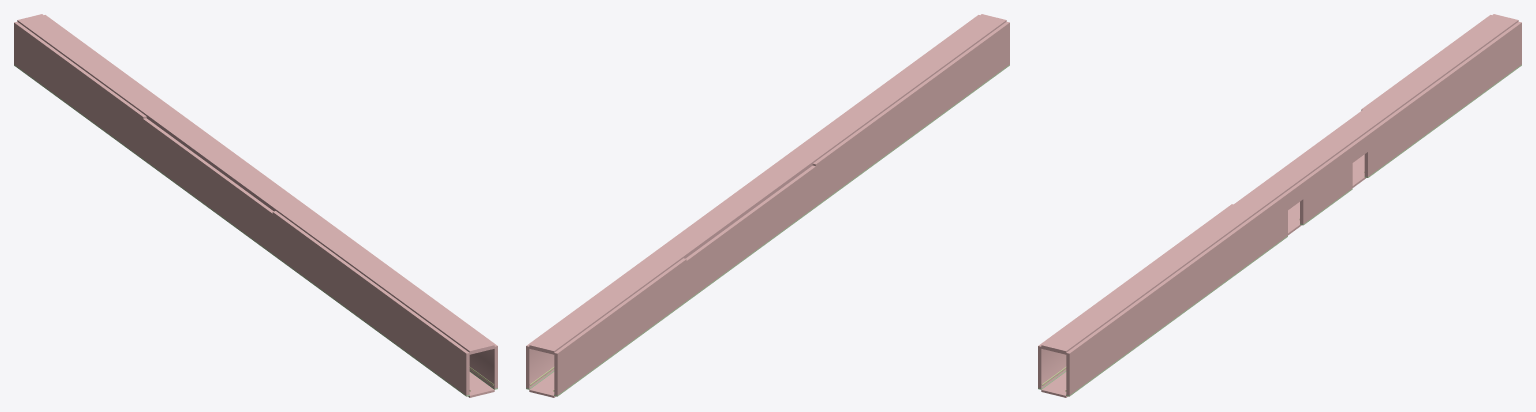
The model's file is corridor.fbx.
3 renders of one model, left to right at view 1: azimuth 30°, elevation 25°; view 2: azimuth 150°, elevation 25°; view 3: azimuth 330°, elevation 25°, orthographic.
Parts seen in each view (by area): view 1: Cylinder.055, Cylinder.066, Cylinder.009, Cylinder.015, Cylinder.006, Cylinder.014, Cylinder.017, ceiling.004, ceiling.001, ceiling.006, ceiling.003, ceiling.002 (+2 smaller); view 2: Cylinder.006, Cylinder.015, Cylinder.009, Cylinder.066, Cylinder.055, Cylinder.014, Cylinder.017, ceiling.001, ceiling.004, ceiling.002, ceiling.019, ceiling.003 (+2 smaller); view 3: Cylinder.055, Cylinder.066, Cylinder.009, Cylinder.015, Cylinder.006, Cylinder.034, Cylinder.016, ceiling.006, ceiling.001, ceiling.003, ceiling.004, ceiling.002 (+2 smaller).
Part boxes in pixels (x1=…): Cylinder.055: x1=402, y1=298, x2=497, y2=396; Cylinder.066: x1=78, y1=62, x2=174, y2=159; Cylinder.009: x1=272, y1=204, x2=368, y2=301; Cylinder.015: x1=337, y1=251, x2=432, y2=349; Cylinder.006: x1=14, y1=15, x2=109, y2=112; Cylinder.014: x1=143, y1=118, x2=210, y2=207; Cylinder.017: x1=208, y1=165, x2=273, y2=254; ceiling.004: x1=146, y1=108, x2=235, y2=164; ceiling.001: x1=211, y1=156, x2=300, y2=211; ceiling.006: x1=405, y1=298, x2=494, y2=354; ceiling.003: x1=276, y1=203, x2=364, y2=257; ceiling.002: x1=17, y1=14, x2=106, y2=68; Cylinder.006: x1=526, y1=298, x2=621, y2=396; Cylinder.015: x1=849, y1=62, x2=945, y2=159; Cylinder.009: x1=785, y1=109, x2=880, y2=207; Cylinder.066: x1=591, y1=251, x2=686, y2=349; Cylinder.055: x1=914, y1=15, x2=1009, y2=112; Cylinder.014: x1=686, y1=213, x2=751, y2=301; Cylinder.017: x1=748, y1=165, x2=815, y2=254; ceiling.001: x1=723, y1=156, x2=812, y2=212; ceiling.004: x1=659, y1=203, x2=747, y2=258; ceiling.002: x1=529, y1=298, x2=618, y2=354; ceiling.019: x1=594, y1=250, x2=683, y2=305; ceiling.003: x1=788, y1=108, x2=877, y2=163; Cylinder.055: x1=1038, y1=298, x2=1133, y2=396; Cylinder.066: x1=1361, y1=62, x2=1457, y2=159; Cylinder.009: x1=1167, y1=204, x2=1263, y2=301; Cylinder.015: x1=1103, y1=251, x2=1198, y2=349; Cylinder.006: x1=1426, y1=15, x2=1521, y2=112; Cylinder.034: x1=1325, y1=116, x2=1392, y2=207; Cylinder.016: x1=1260, y1=163, x2=1327, y2=254; ceiling.006: x1=1041, y1=298, x2=1130, y2=354; ceiling.001: x1=1235, y1=156, x2=1324, y2=210; ceiling.003: x1=1171, y1=203, x2=1259, y2=257; ceiling.004: x1=1300, y1=108, x2=1389, y2=163; ceiling.002: x1=1429, y1=14, x2=1518, y2=68.
Bounding box in the file's own units: 329 × 467 × 8193.
